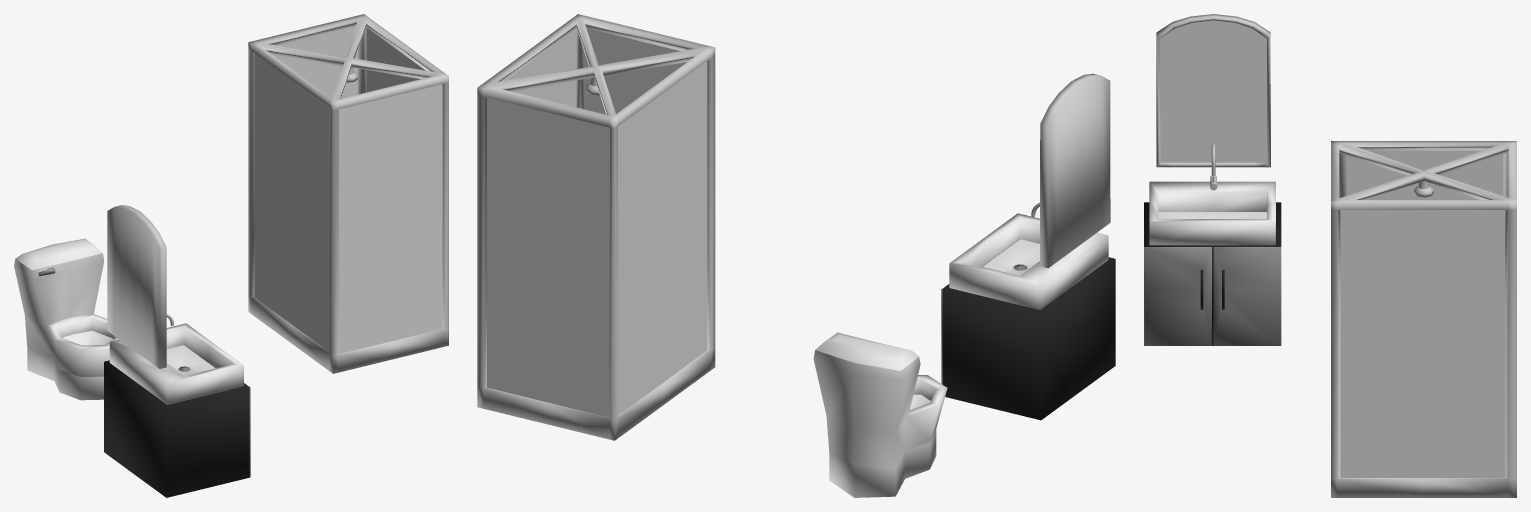
The model's file is Bathroom.fbx.
3 views of the same model, side by side, from view 1: azimuth 30°, elevation 25°; view 2: azimuth 150°, elevation 25°; view 3: azimuth 270°, elevation 25° (orthographic). The views are drawn at different scales.
Parts seen in each view (by area): view 1: Glass, ShowerMark, ShelveToilet, Toilet, MarkMirror, Sink; view 2: Glass, ShowerMark, ShelveToilet, Toilet, MarkMirror, Sink; view 3: Glass, ShowerMark, Mirror, ShelveToilet, Sink, MarkMirror.
Boxes of the visible parts, x1,y1,x2,y2 form: Glass: (254,26,442,353); ShowerMark: (248,14,448,373); ShelveToilet: (104,360,250,497); Toilet: (14,238,118,400); MarkMirror: (107,205,166,368); Sink: (109,323,243,404); Glass: (487,28,707,417); ShowerMark: (477,14,715,440); ShelveToilet: (941,257,1115,420); Toilet: (813,332,947,497); MarkMirror: (1040,73,1110,268); Sink: (949,213,1108,309); Glass: (1340,150,1505,477); ShowerMark: (1331,141,1516,497); Mirror: (1160,20,1266,162); ShelveToilet: (1144,202,1281,345); Sink: (1149,181,1275,245); MarkMirror: (1156,14,1270,167).
Size of the model in its own units: 319 by 223 by 255.
